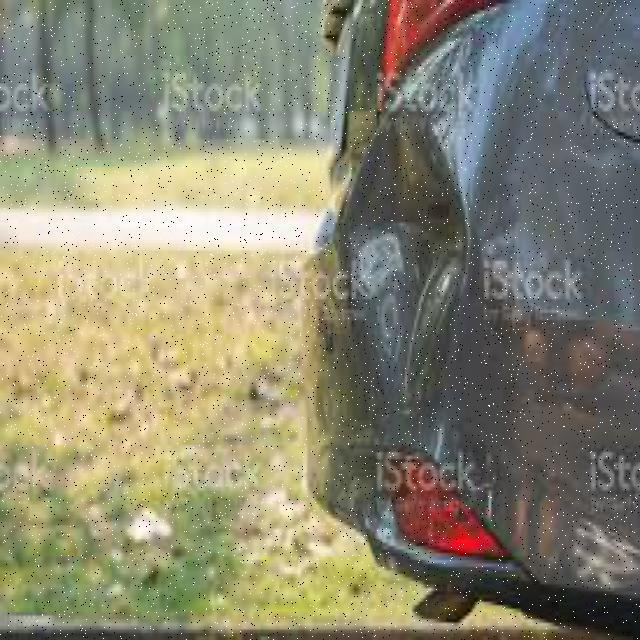car damage: (298, 97, 617, 616)
